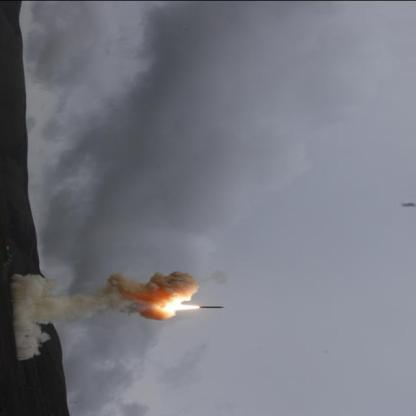MIL_TBM: (197, 305, 227, 309)
